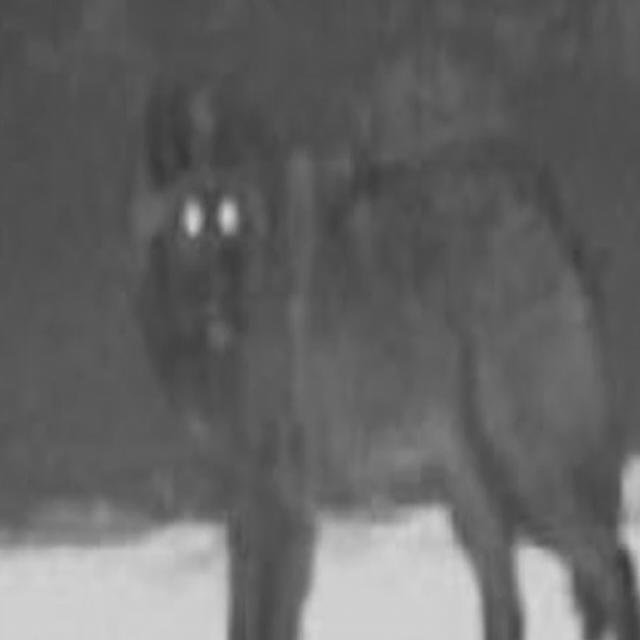wolf: (123, 65, 640, 640)
